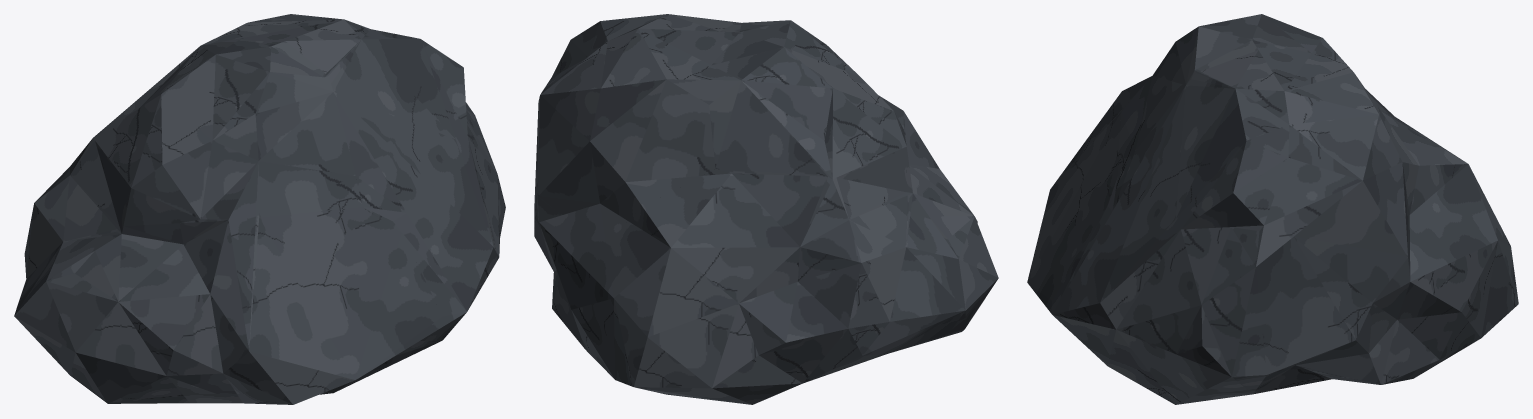
The model's file is rock_boulder1_v1.fbx.
The picture shows the model from 3 angles, left to right: view 1: azimuth 30°, elevation 25°; view 2: azimuth 150°, elevation 25°; view 3: azimuth 270°, elevation 25°; orthographic projection. The views are drawn at different scales.
Visible parts, largest first — view 1: rock_boulder1_v1_s2_lod0, rock_boulder1_v1_s4_lod0, rock_boulder1_v1_s3_lod0, rock_boulder1_v1_s0_lod0, rock_boulder1_v1_s1_lod0; view 2: rock_boulder1_v1_s1_lod0, rock_boulder1_v1_s3_lod0, rock_boulder1_v1_s4_lod0, rock_boulder1_v1_s2_lod0, rock_boulder1_v1_s0_lod0; view 3: rock_boulder1_v1_s0_lod0, rock_boulder1_v1_s3_lod0, rock_boulder1_v1_s1_lod0, rock_boulder1_v1_s4_lod0, rock_boulder1_v1_s2_lod0.
Boxes of the visible parts, bbox=[...] form: rock_boulder1_v1_s2_lod0: bbox=[39, 207, 446, 404]; rock_boulder1_v1_s4_lod0: bbox=[94, 35, 362, 225]; rock_boulder1_v1_s3_lod0: bbox=[223, 14, 466, 223]; rock_boulder1_v1_s0_lod0: bbox=[390, 102, 505, 365]; rock_boulder1_v1_s1_lod0: bbox=[14, 136, 118, 353]; rock_boulder1_v1_s1_lod0: bbox=[570, 168, 979, 404]; rock_boulder1_v1_s3_lod0: bbox=[537, 14, 735, 259]; rock_boulder1_v1_s4_lod0: bbox=[707, 20, 911, 191]; rock_boulder1_v1_s2_lod0: bbox=[903, 112, 998, 342]; rock_boulder1_v1_s0_lod0: bbox=[534, 100, 586, 350]; rock_boulder1_v1_s0_lod0: bbox=[1047, 211, 1459, 404]; rock_boulder1_v1_s3_lod0: bbox=[1106, 50, 1452, 264]; rock_boulder1_v1_s1_lod0: bbox=[1366, 89, 1518, 371]; rock_boulder1_v1_s4_lod0: bbox=[1118, 14, 1336, 175]; rock_boulder1_v1_s2_lod0: bbox=[1027, 92, 1121, 308].
Size of what is drawn, in the model's own units: 344 by 216 by 305.
